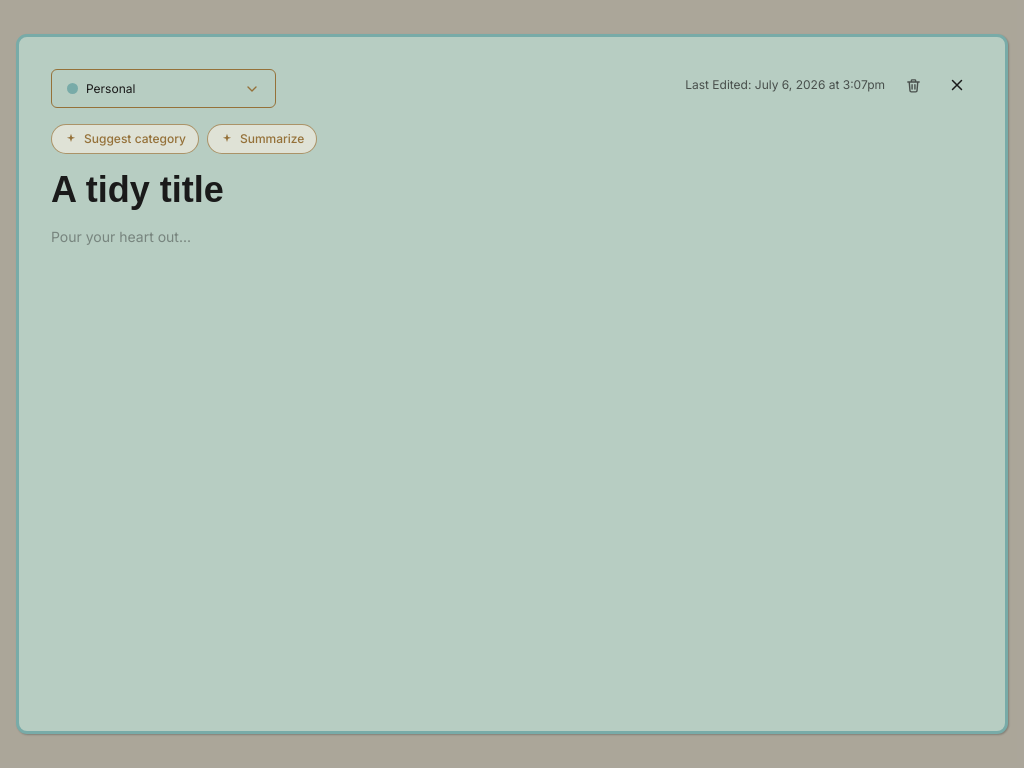
Test: NoteEditor › prompts for content instead of a silent no-op on an empty note
The image size is (1024, 768).
Click the button "Suggest category".
click(125, 139)  # box [51,124,199,154]
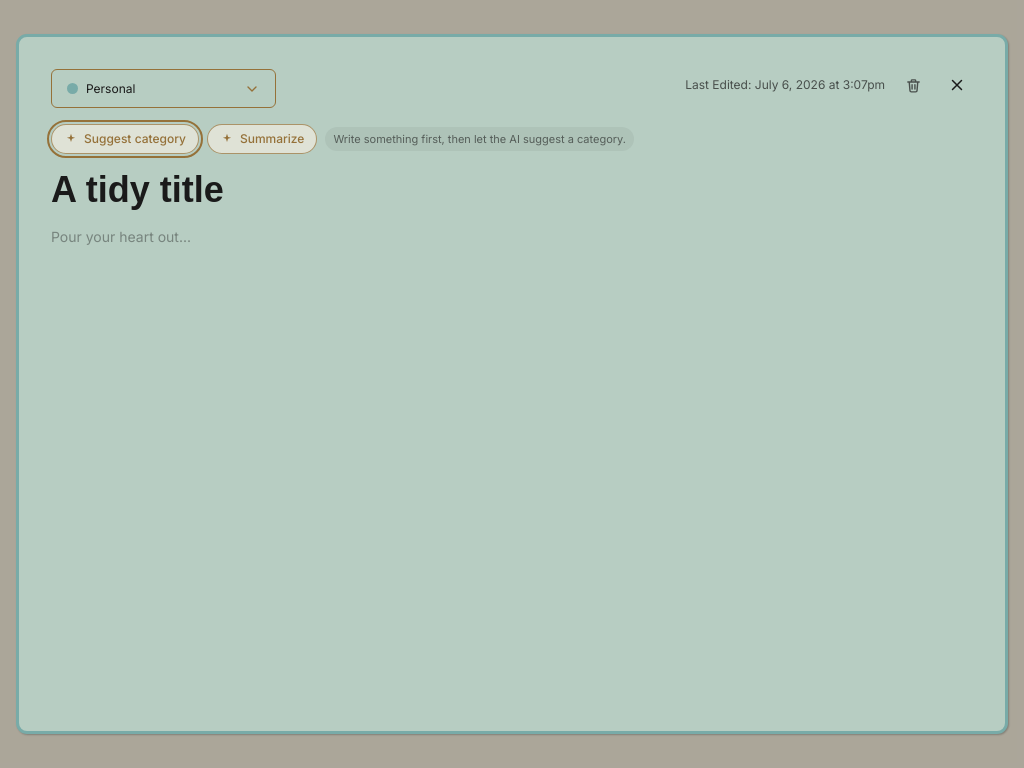
Expected: the text "Write something first, then let the AI suggest a category." is shown, [325,127,634,151]
